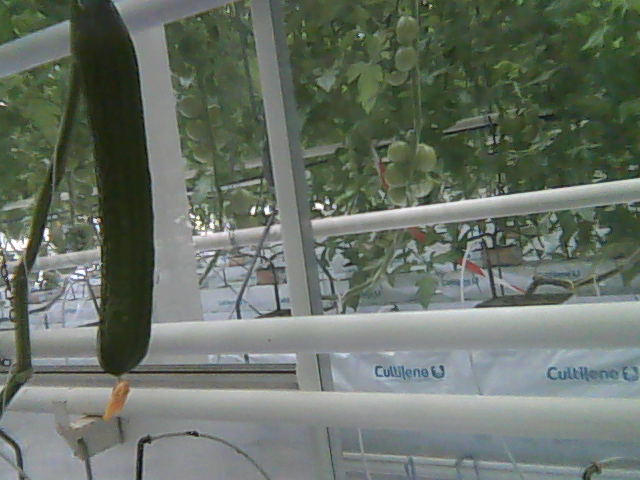concombre: (65, 1, 158, 428)
